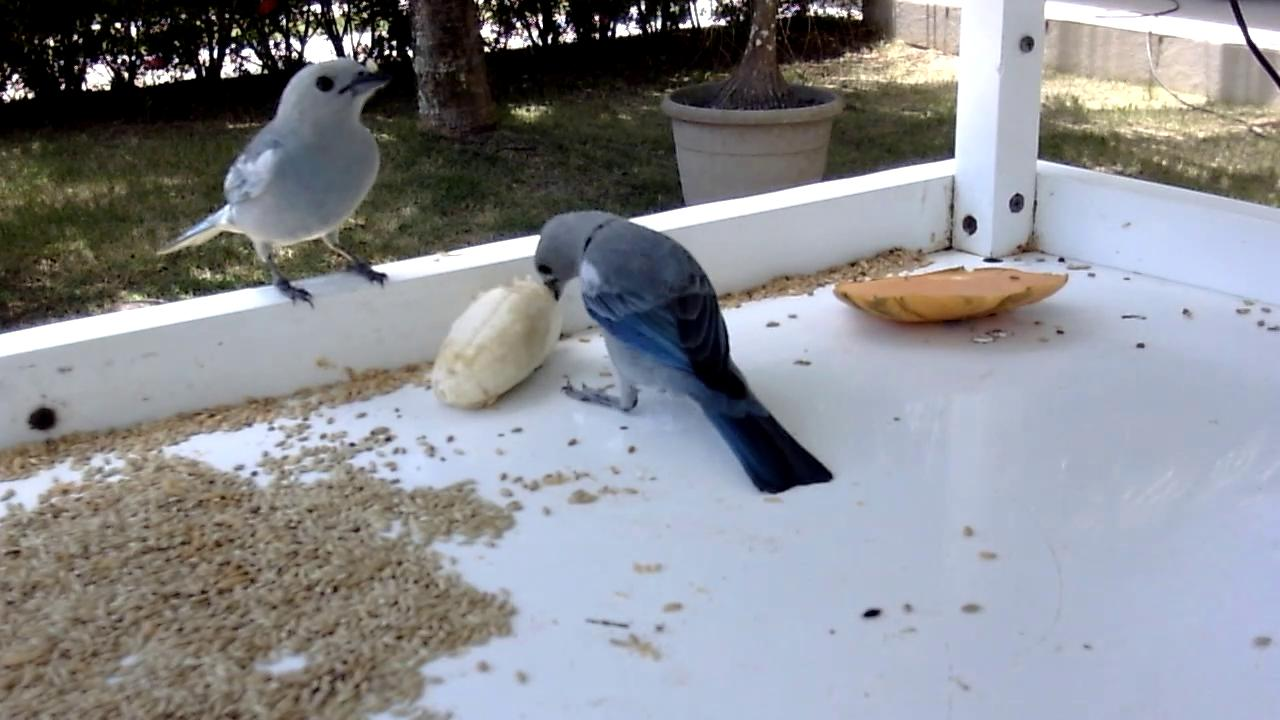sanhaco_da_amazonia: (534, 212, 836, 499), (158, 59, 397, 312)
